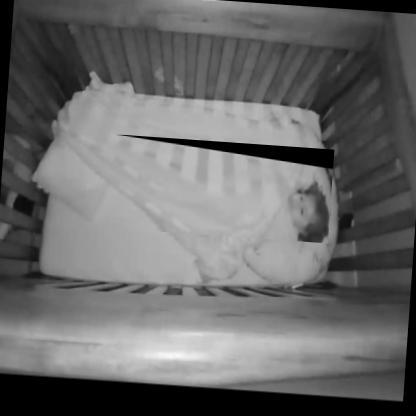baby: (287, 180, 332, 244)
